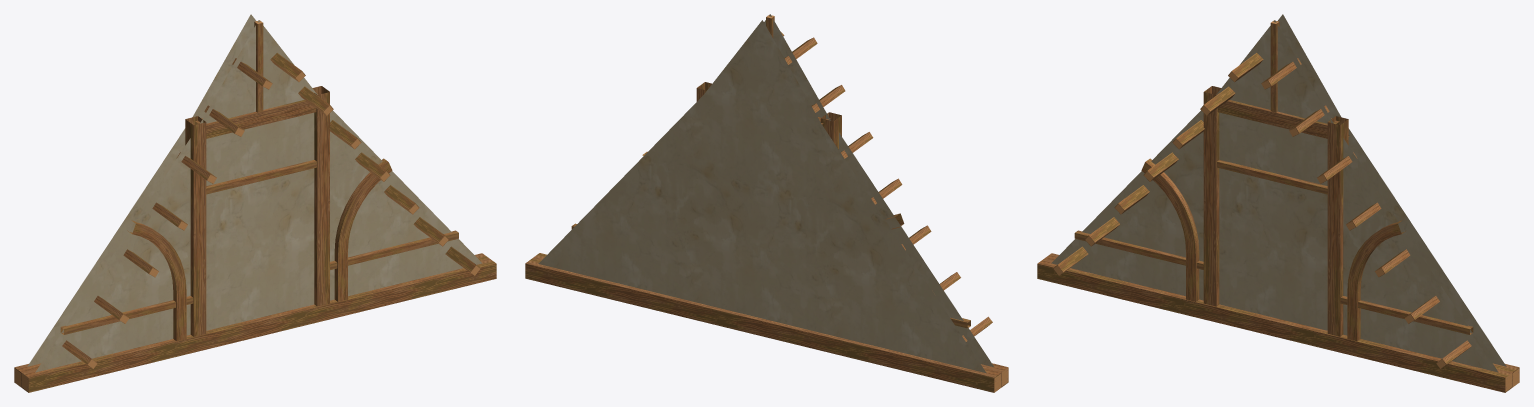
File: Roof_Front_Brick8.glb
3 renders of one model, left to right at view 1: azimuth 30°, elevation 25°; view 2: azimuth 150°, elevation 25°; view 3: azimuth 330°, elevation 25°, orthographic.
Parts seen in each view (by area): view 1: Roof_Front_Brick8; view 2: Roof_Front_Brick8; view 3: Roof_Front_Brick8.
Part boxes in pixels (box(x1,y1,x2,y2)): Roof_Front_Brick8: box(14, 14, 496, 392); Roof_Front_Brick8: box(525, 14, 1008, 392); Roof_Front_Brick8: box(1037, 14, 1519, 392).
Bounding box in the file's own units: 8.51 × 5.45 × 1.13.
Materials: 2 (2 with a texture image).
